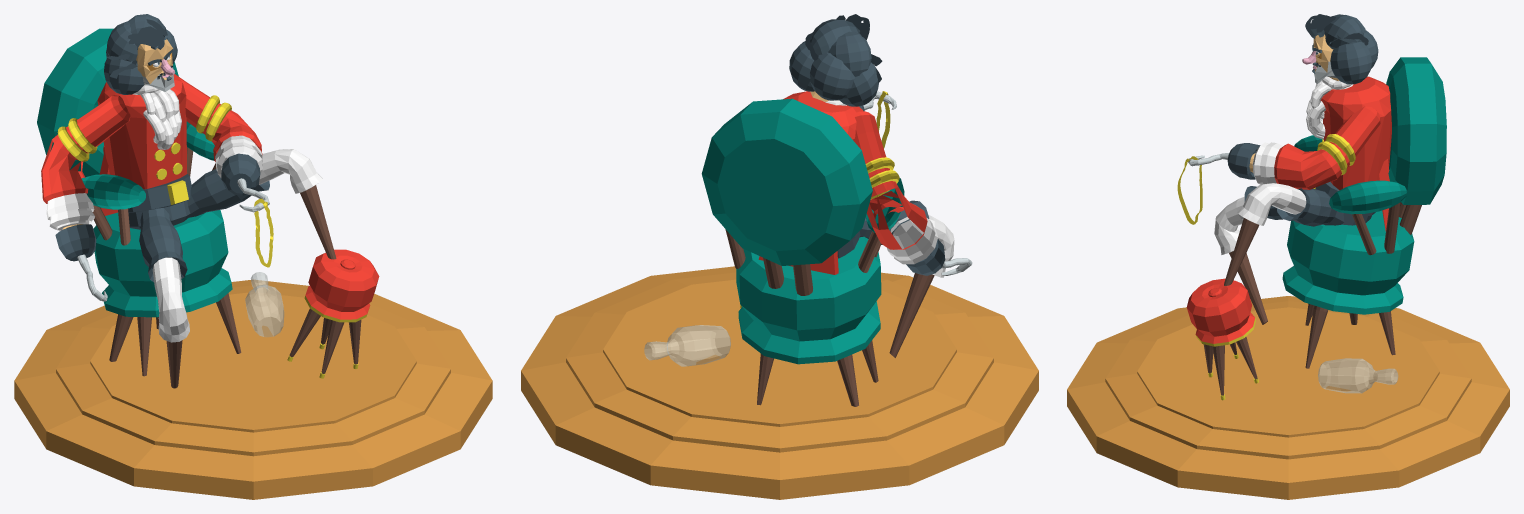
The model's file is scene_G3oWI223jn.glb.
3 renders of one model, left to right at view 1: azimuth 30°, elevation 25°; view 2: azimuth 150°, elevation 25°; view 3: azimuth 270°, elevation 25°, orthographic. The views are drawn at different scales.
Parts seen in each view (by area): view 1: Node; view 2: Node; view 3: Node.
Part boxes in pixels (x1=…): Node: x1=14, y1=14, x2=492, y2=499; Node: x1=521, y1=14, x2=1038, y2=499; Node: x1=1067, y1=14, x2=1509, y2=499.
Bounding box in the file's own units: 3.31 × 2.91 × 3.31.
